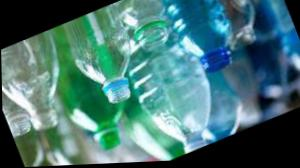glass: (2, 27, 61, 136)
plastic: (102, 0, 242, 159), (3, 17, 134, 166), (140, 0, 259, 74), (65, 1, 146, 103)
